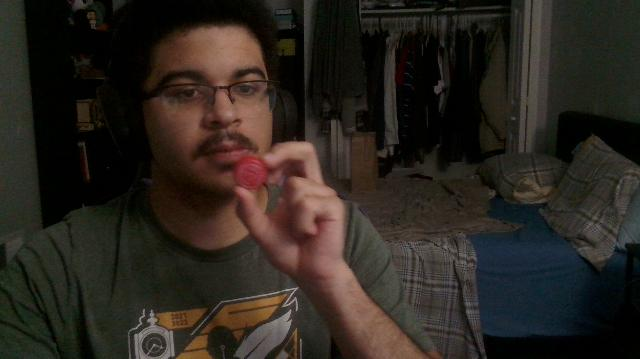cap: (235, 156, 268, 190)
